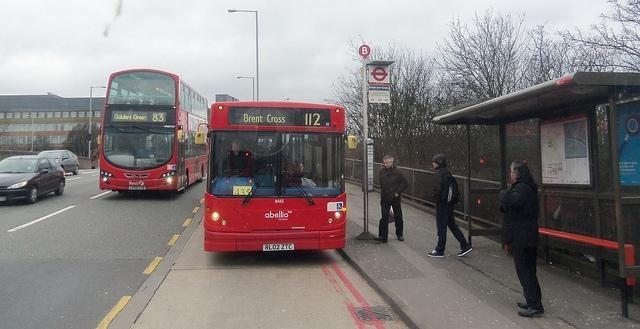bus: (192, 100, 356, 252), (99, 71, 208, 190)
car: (1, 154, 67, 203), (37, 150, 80, 175)
